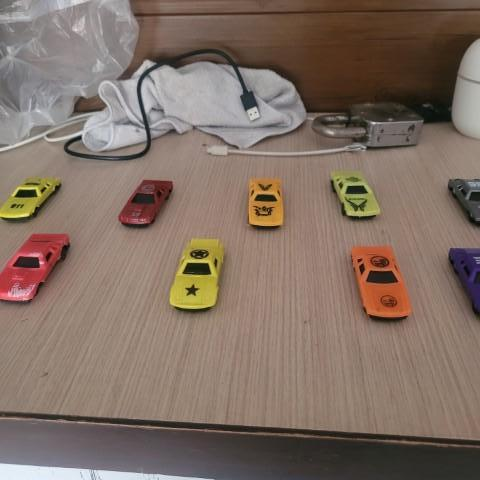car: (1, 232, 72, 312), (350, 242, 414, 322), (171, 237, 228, 310), (119, 177, 176, 228), (329, 168, 379, 218), (245, 173, 286, 229)
